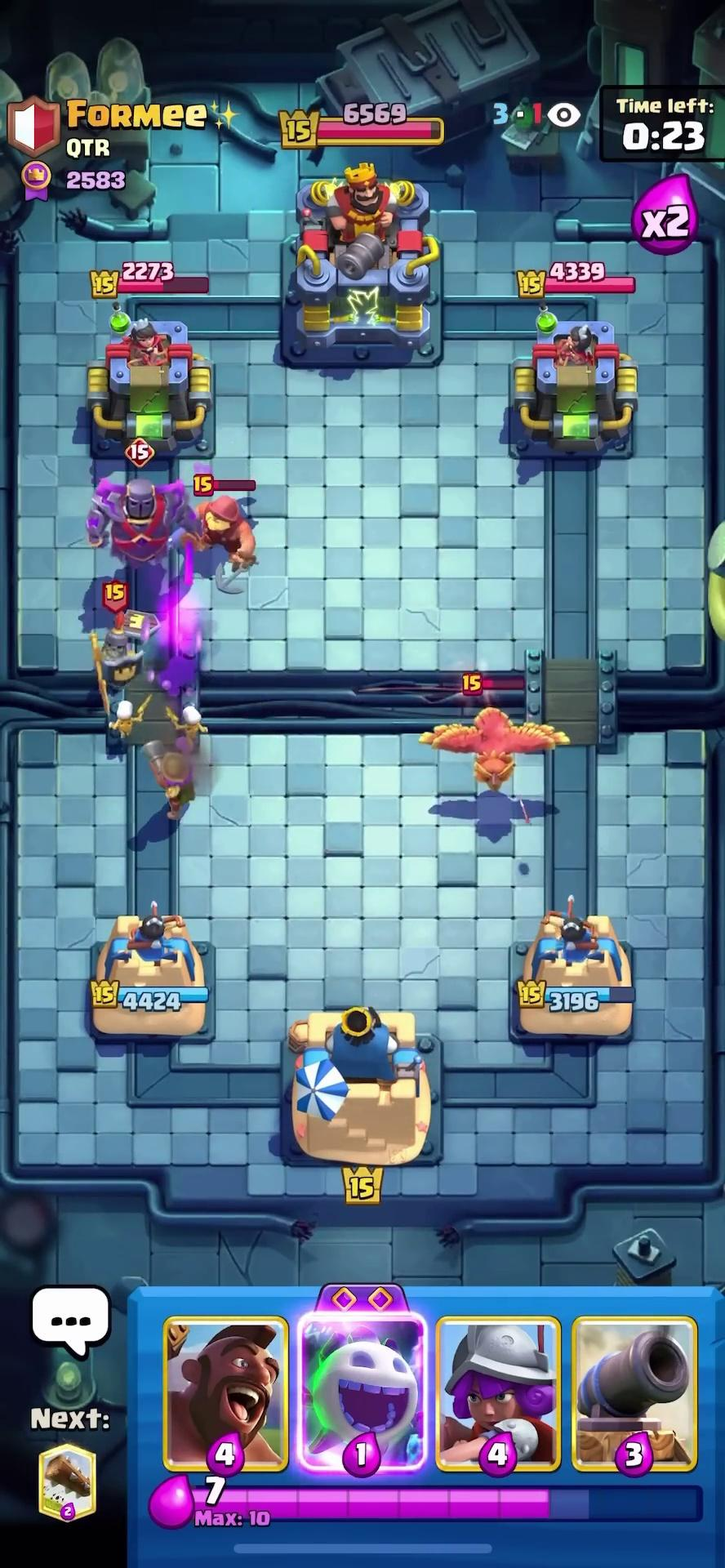musketeer: (135, 739, 206, 823)
skeletons: (98, 696, 218, 747)
